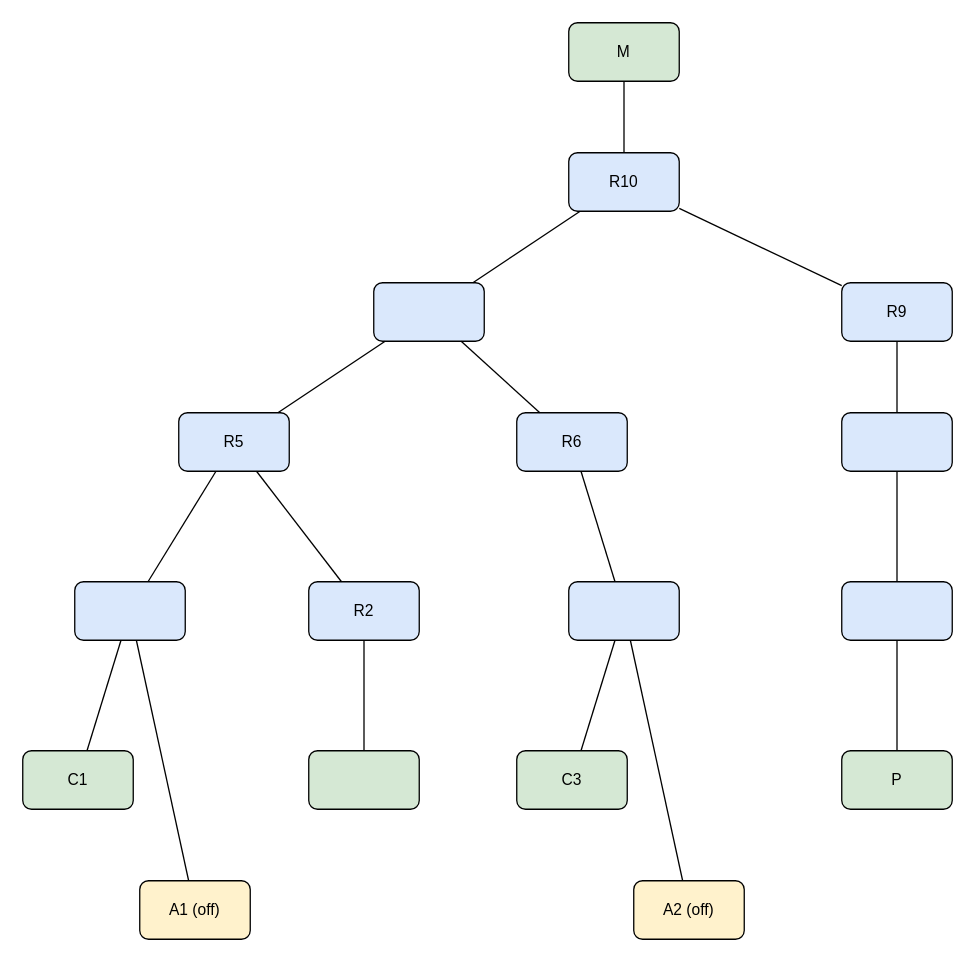
Image size: 975x962. Some labels were removed from this diagram. Each missing label, with the box of its shape:
C2: (307, 749, 419, 809)
R1: (73, 580, 185, 640)
R3: (567, 580, 679, 640)
R4: (840, 580, 952, 640)
R7: (840, 411, 952, 471)
R8: (372, 281, 484, 341)
